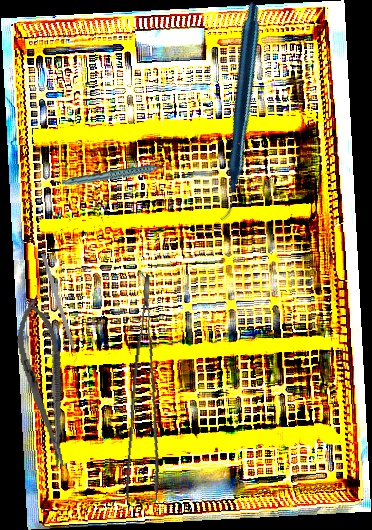Chopper: (35, 253, 81, 367)
Handpiece: (127, 0, 347, 222), (61, 156, 173, 195)
Needle Holder: (9, 296, 80, 471)
Tissue Forceps: (114, 274, 188, 503)
